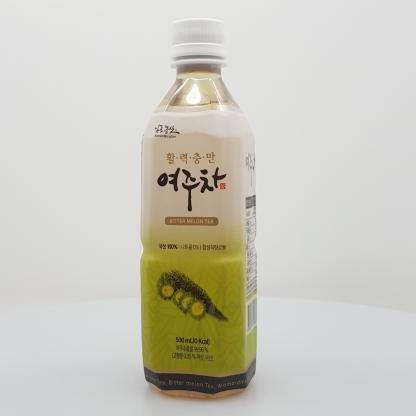-----------500ML: (140, 18, 257, 399)
